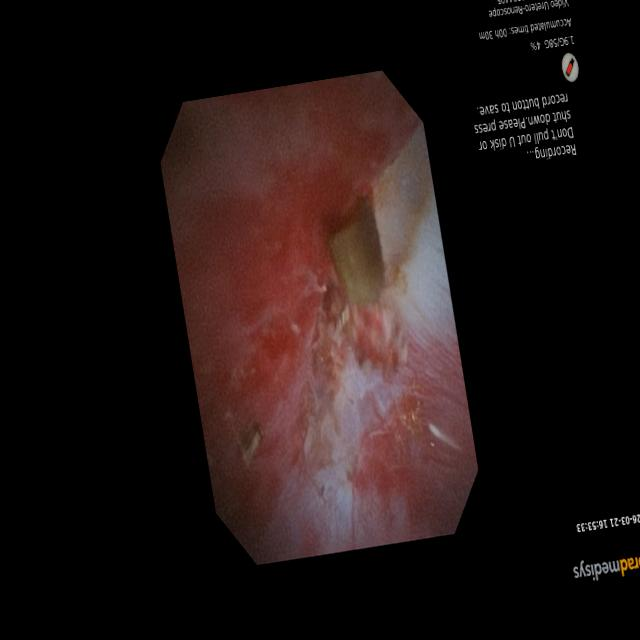stone-new: (329, 197, 385, 306)
